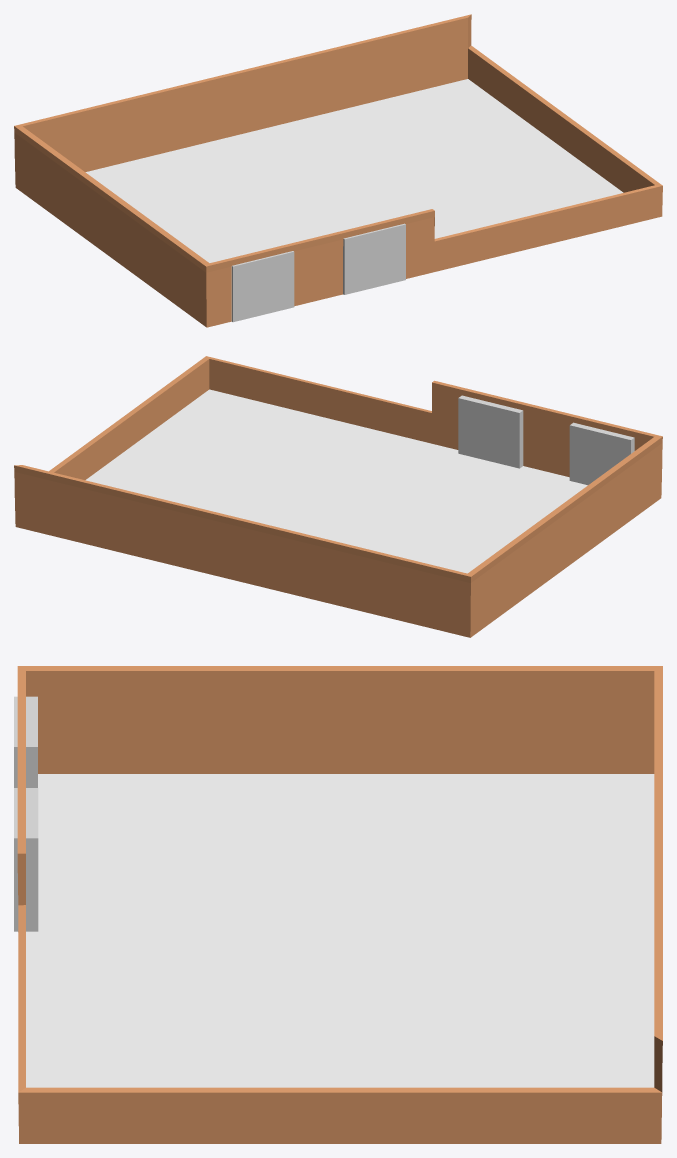
Rendered from store.gltf.
3 views of the same model, one above another, from view 1: azimuth 30°, elevation 25°; view 2: azimuth 150°, elevation 25°; view 3: azimuth 270°, elevation 25° (orthographic). The views are drawn at different scales.
Parts seen in each view (by area): view 1: ShopModel, CTRL_Hole, CTRL_Hole.001; view 2: ShopModel, CTRL_Hole, CTRL_Hole.001; view 3: ShopModel, CTRL_Hole, CTRL_Hole.001.
Boxes of the visible parts, x1=… form: ShopModel: x1=14, y1=14, x2=662, y2=327; CTRL_Hole: x1=343, y1=223, x2=405, y2=294; CTRL_Hole.001: x1=232, y1=251, x2=294, y2=322; ShopModel: x1=14, y1=356, x2=662, y2=637; CTRL_Hole: x1=458, y1=395, x2=523, y2=468; CTRL_Hole.001: x1=569, y1=422, x2=634, y2=485; ShopModel: x1=17, y1=666, x2=662, y2=1143; CTRL_Hole: x1=14, y1=788, x2=38, y2=931; CTRL_Hole.001: x1=14, y1=696, x2=37, y2=787.
Bounding box in the file's own units: 22.6 × 2.92 × 16.52.
